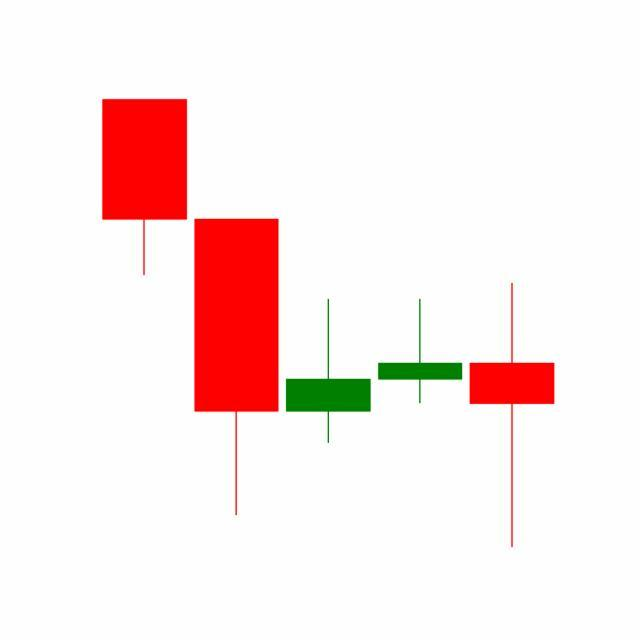Spinning Top: (466, 280, 559, 551)
